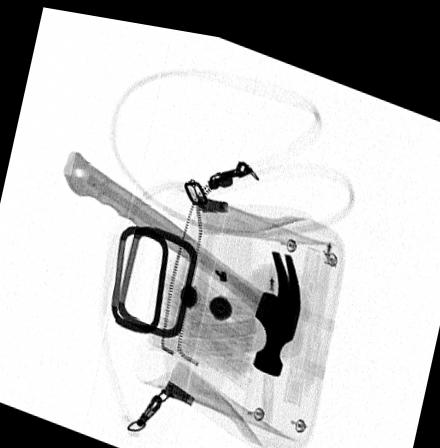Hammer: (62, 147, 301, 367)
